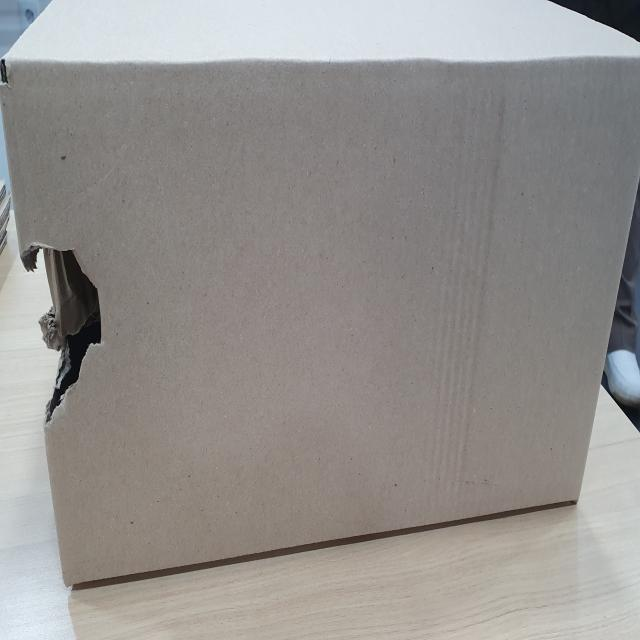hole: (15, 220, 107, 402)
